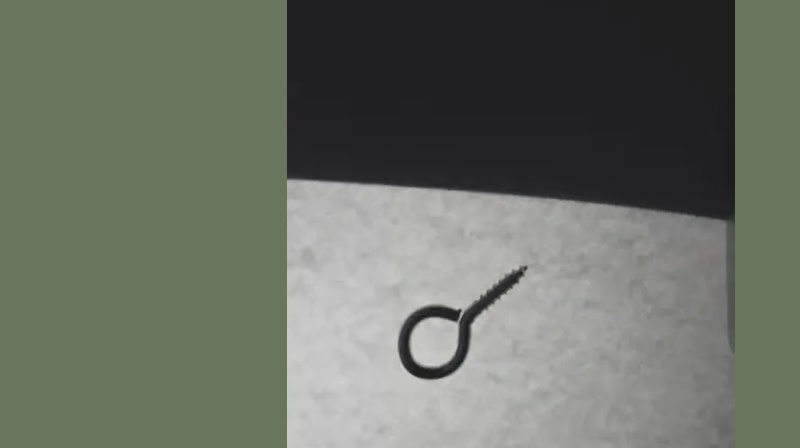O001: (393, 257, 533, 385)
